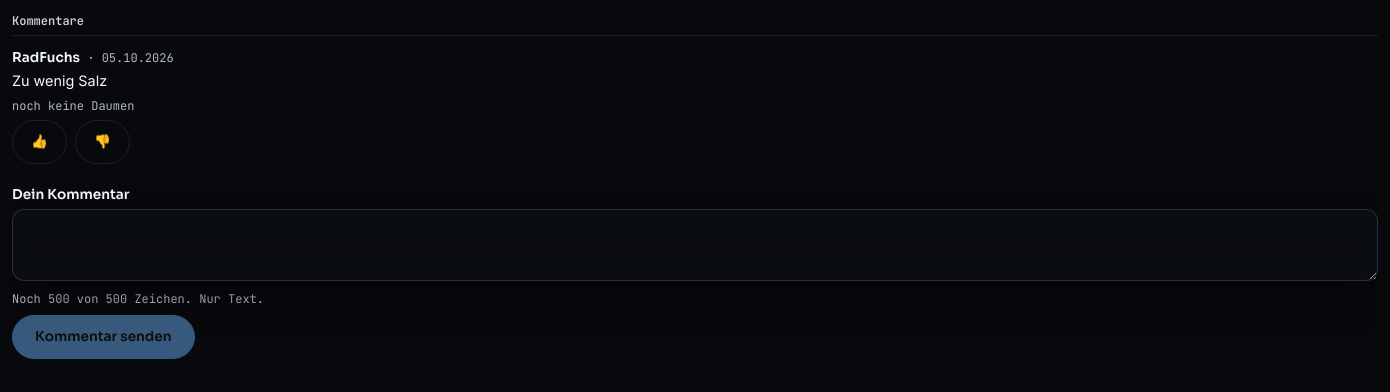
RecipeComments — Daumen › zeigt eine Fehlermeldung, wenn der Daumen nicht gespeichert wird
Click the button named "Daumen hoch" at (40, 142), box top-left (12, 120), bottom-right (67, 164)
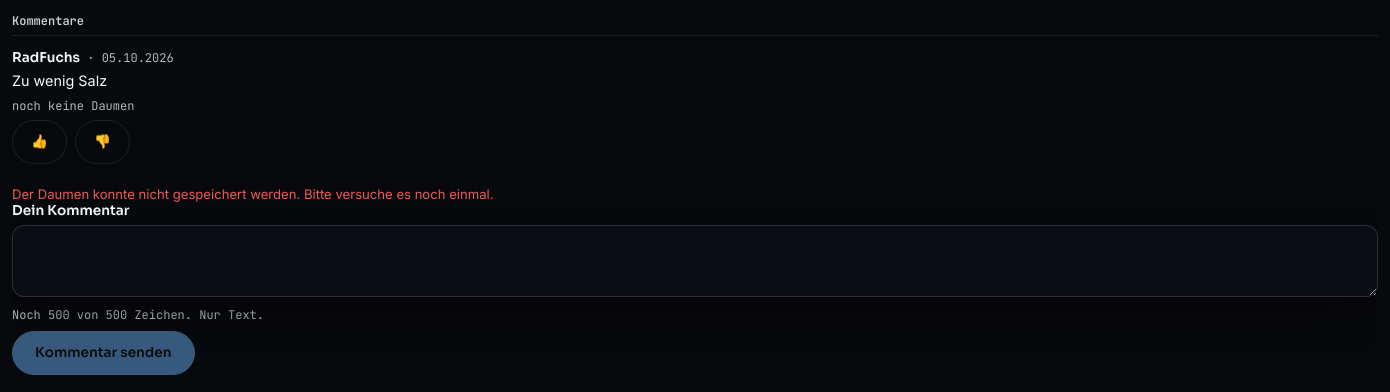
Expected: the message shows "Daumen konnte nicht gespeichert", top-left (12, 186), bottom-right (494, 202)
